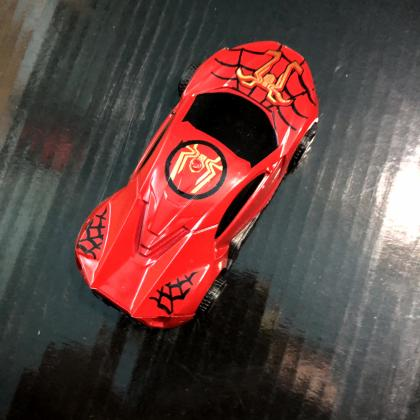Car: (77, 41, 320, 330)
